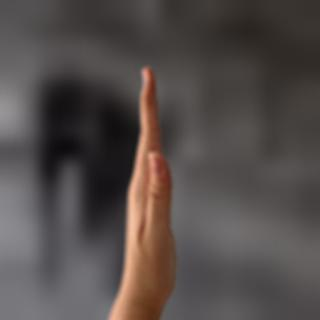Right: (110, 63, 199, 307)
